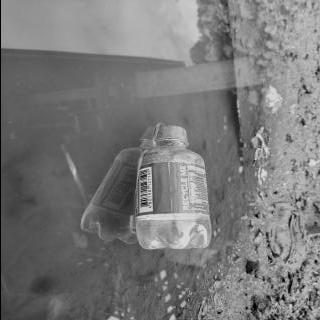bottle: (130, 123, 213, 253)
